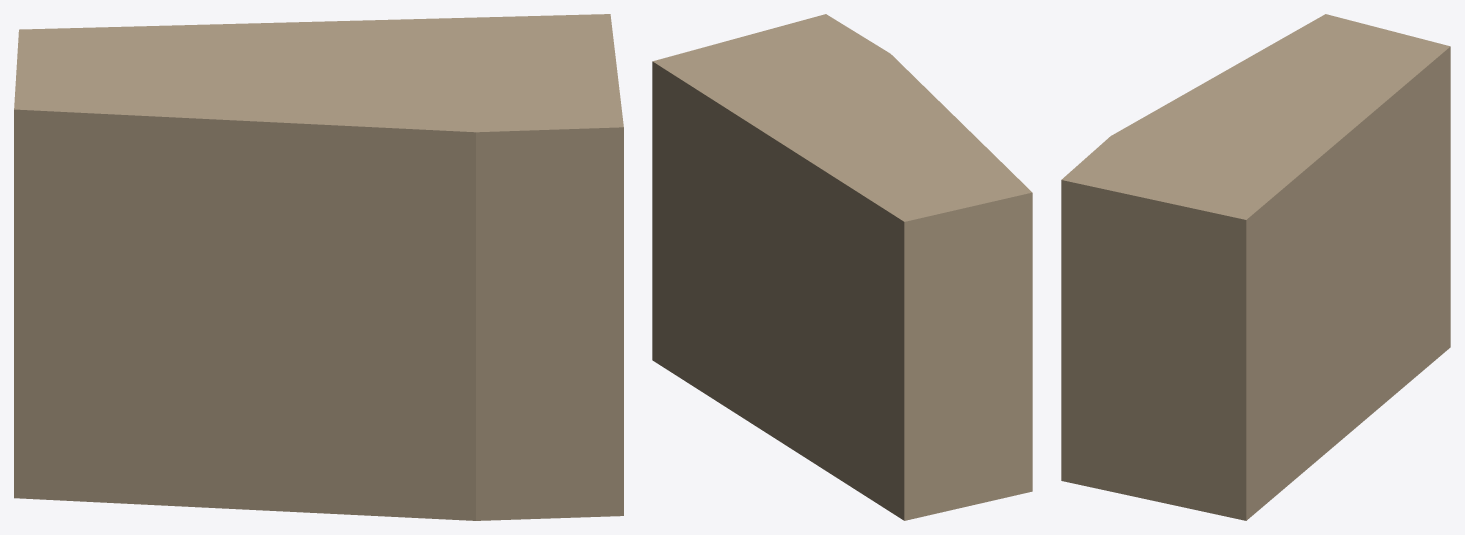
File: bld_101353638.dae
3 renders of one model, left to right at view 1: azimuth 30°, elevation 25°; view 2: azimuth 150°, elevation 25°; view 3: azimuth 270°, elevation 25°, orthographic. The views are drawn at different scales.
Parts seen in each view (by area): view 1: bld_101353638; view 2: bld_101353638; view 3: bld_101353638.
Boxes of the visible parts, x1,y1,x2,y2 form: bld_101353638: (14, 14, 623, 520); bld_101353638: (652, 14, 1032, 520); bld_101353638: (1061, 14, 1450, 520).
Size of the model in its own units: 11.74 by 9.38 by 8.
